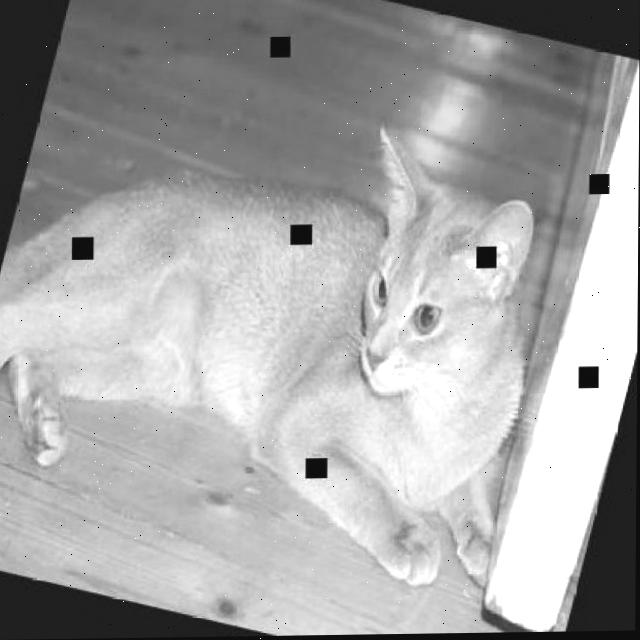Cat: (0, 42, 594, 614)
